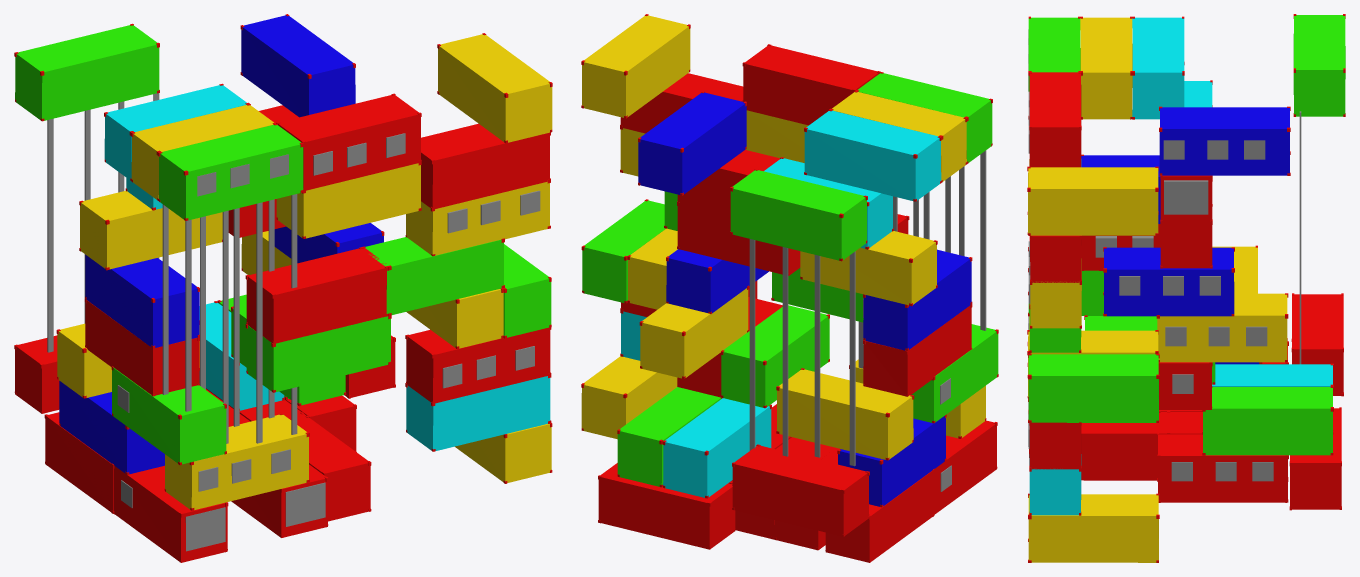
The model's file is ParentPart22FBX.FBX.
The picture shows the model from 3 angles, left to right: view 1: azimuth 30°, elevation 25°; view 2: azimuth 150°, elevation 25°; view 3: azimuth 270°, elevation 25°; orthographic projection. The views are drawn at different scales.
Parts seen in each view (by area): view 1: ParentPart22; view 2: ParentPart22; view 3: ParentPart22.
Part boxes in pixels (x1=…): ParentPart22: x1=14, y1=14, x2=552, y2=562; ParentPart22: x1=581, y1=14, x2=998, y2=562; ParentPart22: x1=1027, y1=14, x2=1345, y2=562.
Size of the model in its own units: 6.59 by 5.02 by 6.52.
